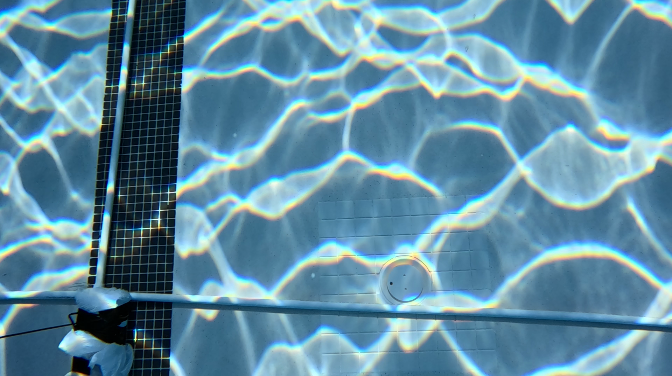sandbag: (71, 286, 132, 375)
